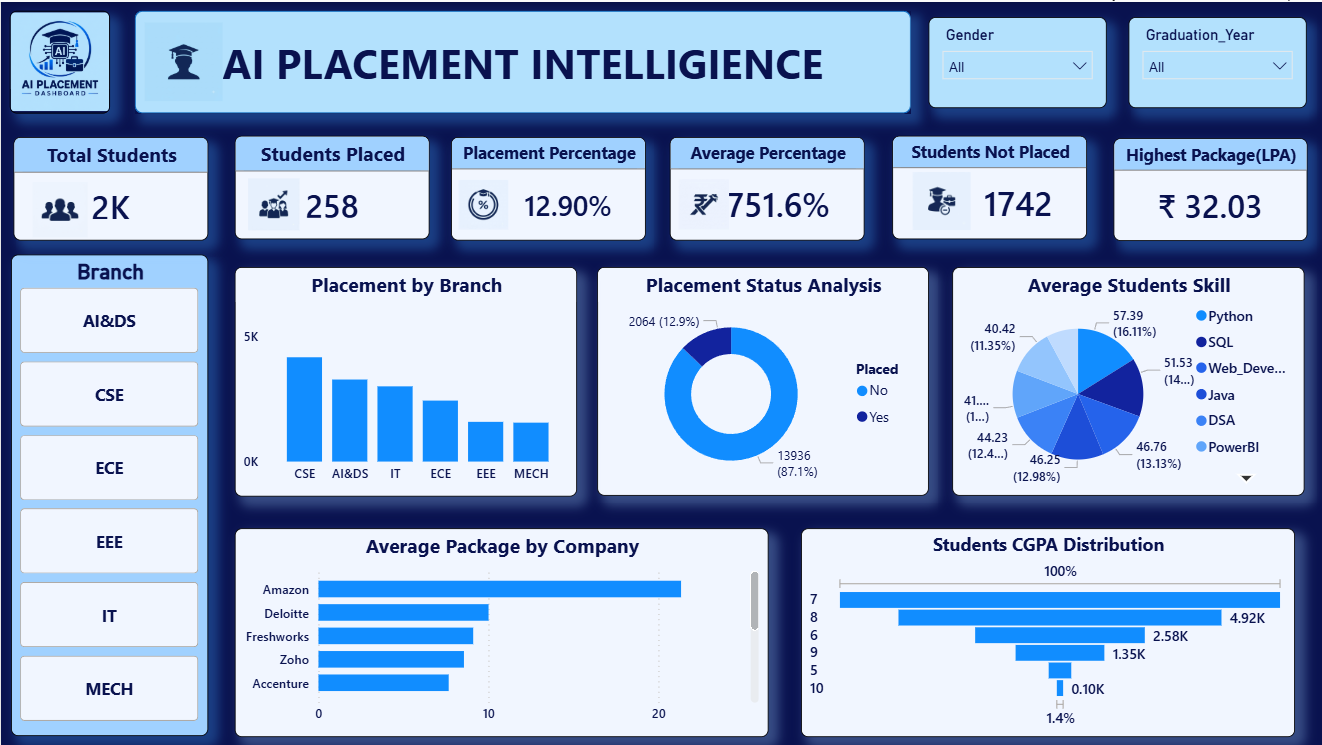

What the dashboard file says about the page in this screenshot:
{"tool":"powerbi","page":{"name":"Page 1","canvas":[1280,720],"ordinal":0},"visuals":[{"type":"image","box":[8.9,8.9,96.8,99.1],"z":0},{"type":"shape","box":[129.1,8.9,749.2,99.1],"z":1000},{"type":"image","box":[138.4,18.6,75.6,79.1],"z":2000},{"type":"advancedSlicerVisual","fields":{"Values":["Sheet1.Branch"]},"box":[9.3,244.2,190.7,465.1],"z":3000},{"type":"slicer","fields":{"Values":["Sheet1.Graduation_Year"]},"box":[1088.4,14,172.1,88.4],"z":4000},{"type":"slicer","fields":{"Values":["Sheet1.Gender"]},"box":[895.4,14,172.1,88.4],"z":5000},{"type":"cardVisual","title":"Total Students","fields":{"Data":["Sheet1.Total Students"]},"box":[11.6,130.2,188.4,100],"z":6000},{"type":"image","box":[30.2,170.9,53.5,58.1],"z":7000},{"type":"cardVisual","title":"Students Placed","fields":{"Data":["Sheet1.Students Placed"]},"box":[225.6,129.1,188.4,100],"z":8000},{"type":"image","box":[234.9,169.8,55.8,50],"z":9000},{"type":"cardVisual","title":"Placement Percentage","fields":{"Data":["Sheet1.Placement Percentage"]},"box":[433.7,130.2,188.4,100],"z":10000},{"type":"image","box":[441.9,169.8,47.7,51.2],"z":11000},{"type":"cardVisual","title":"Average Percentage","fields":{"Data":["Sheet1.Average Package"]},"box":[645.4,130.2,188.4,100],"z":12000},{"type":"cardVisual","title":"Highest Package(LPA)","fields":{"Data":["Sheet1.Highest Package"]},"box":[1073.3,131.4,187.2,98.8],"z":13000},{"type":"image","box":[653.5,169.8,48.8,50],"z":14000},{"type":"cardVisual","title":"Students Not Placed ","fields":{"Data":["Sheet1.Students Not Placed"]},"box":[860.5,129.1,188.4,100],"z":15000},{"type":"image","box":[877.9,164,59.3,55.8],"z":16000},{"type":"clusteredBarChart","fields":{"Category":["Sheet1.Company"],"Y":["Sheet1.Average Package"]},"box":[225.6,507.9,515.2,201.5],"z":17000},{"type":"donutChart","title":" Placement Status Analysis","fields":{"Category":["Sheet1.Placed"],"Y":["CountNonNull(Sheet1.Student_ID)"]},"box":[575.5,255.8,319.7,220.8],"z":18000},{"type":"clusteredColumnChart","title":"Placement by Branch","fields":{"Category":["Sheet1.Branch"],"Y":["CountNonNull(Sheet1.Student_ID)"]},"box":[225.6,255.8,330.6,222],"z":19000},{"type":"funnel","title":"Students CGPA Distribution","fields":{"Category":["Sheet1.CGPA (bins)"],"Y":["CountNonNull(Sheet1.Student_ID)"]},"box":[772.1,507.9,476.5,201.5],"z":20000},{"type":"pieChart","title":"Average Students Skill ","fields":{"Category":["Sheet1.Skill"],"Y":["Avg(Sheet1.Skill Score)"]},"box":[918.1,255.8,340.2,220.8],"z":20001}]}

Visuals, with their boxes in screenshot pixels (x1, y1, x2, y2), scaled from the page's 1280x720 canvas onto the 1322x745 screenshot:
image: (left=9, top=9, right=109, bottom=112)
shape: (left=133, top=9, right=907, bottom=112)
image: (left=143, top=19, right=221, bottom=101)
advancedSlicerVisual - Sheet1.Branch: (left=10, top=253, right=207, bottom=734)
slicer - Sheet1.Graduation_Year: (left=1124, top=14, right=1302, bottom=106)
slicer - Sheet1.Gender: (left=925, top=14, right=1103, bottom=106)
"Total Students" cardVisual: (left=12, top=135, right=207, bottom=238)
image: (left=31, top=177, right=86, bottom=237)
"Students Placed" cardVisual: (left=233, top=134, right=428, bottom=237)
image: (left=243, top=176, right=300, bottom=227)
"Placement Percentage" cardVisual: (left=448, top=135, right=643, bottom=238)
image: (left=456, top=176, right=506, bottom=229)
"Average Percentage" cardVisual: (left=667, top=135, right=861, bottom=238)
"Highest Package(LPA)" cardVisual: (left=1109, top=136, right=1302, bottom=238)
image: (left=675, top=176, right=725, bottom=227)
"Students Not Placed " cardVisual: (left=889, top=134, right=1083, bottom=237)
image: (left=907, top=170, right=968, bottom=227)
clusteredBarChart - Sheet1.Company x Sheet1.Average Package: (left=233, top=526, right=765, bottom=734)
" Placement Status Analysis" donutChart: (left=594, top=265, right=925, bottom=493)
"Placement by Branch" clusteredColumnChart: (left=233, top=265, right=574, bottom=494)
"Students CGPA Distribution" funnel: (left=797, top=526, right=1290, bottom=734)
"Average Students Skill " pieChart: (left=948, top=265, right=1300, bottom=493)
